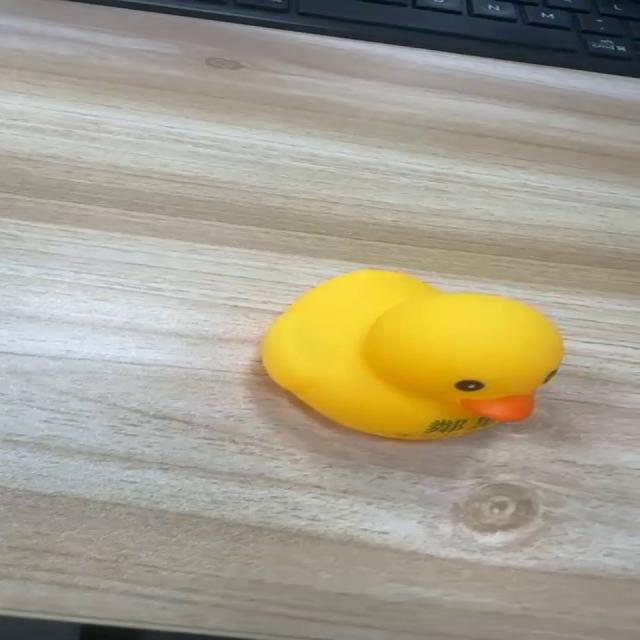yellow_duck: (257, 267, 564, 441)
